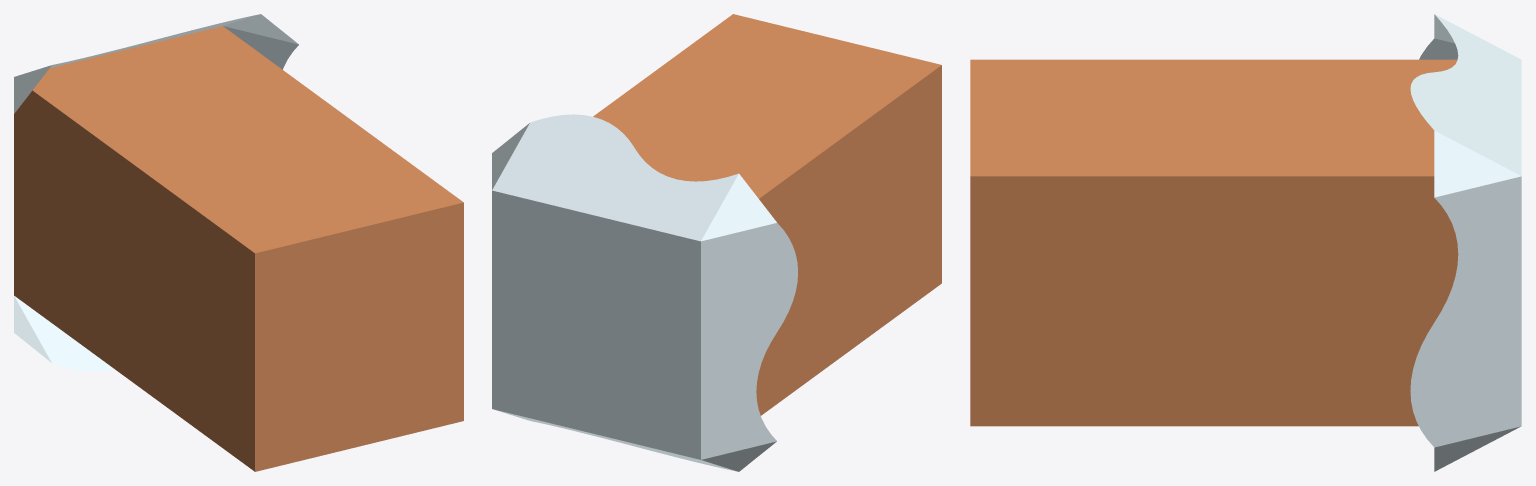
Rendered from blockSnowQuarter.obj.
3 views of the same model, side by side, from view 1: azimuth 30°, elevation 25°; view 2: azimuth 150°, elevation 25°; view 3: azimuth 270°, elevation 25° (orthographic). The views are drawn at different scales.
Visible parts, largest first — view 1: blockSnowQuarter; view 2: blockSnowQuarter; view 3: blockSnowQuarter.
Part boxes in pixels (box(x1,y1,x2,y2)): blockSnowQuarter: box(14, 14, 463, 471); blockSnowQuarter: box(492, 14, 941, 471); blockSnowQuarter: box(970, 14, 1521, 471).
Size of the model in its own units: 0.733 by 0.733 by 1.
